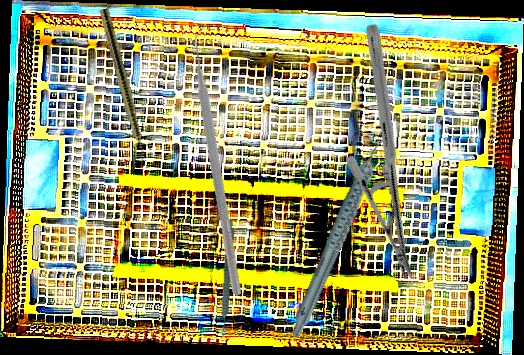Chopper: (88, 21, 358, 297)
Handpiece: (253, 131, 430, 340), (96, 7, 152, 168), (215, 219, 235, 333)
Needle Holder: (268, 21, 511, 282)
